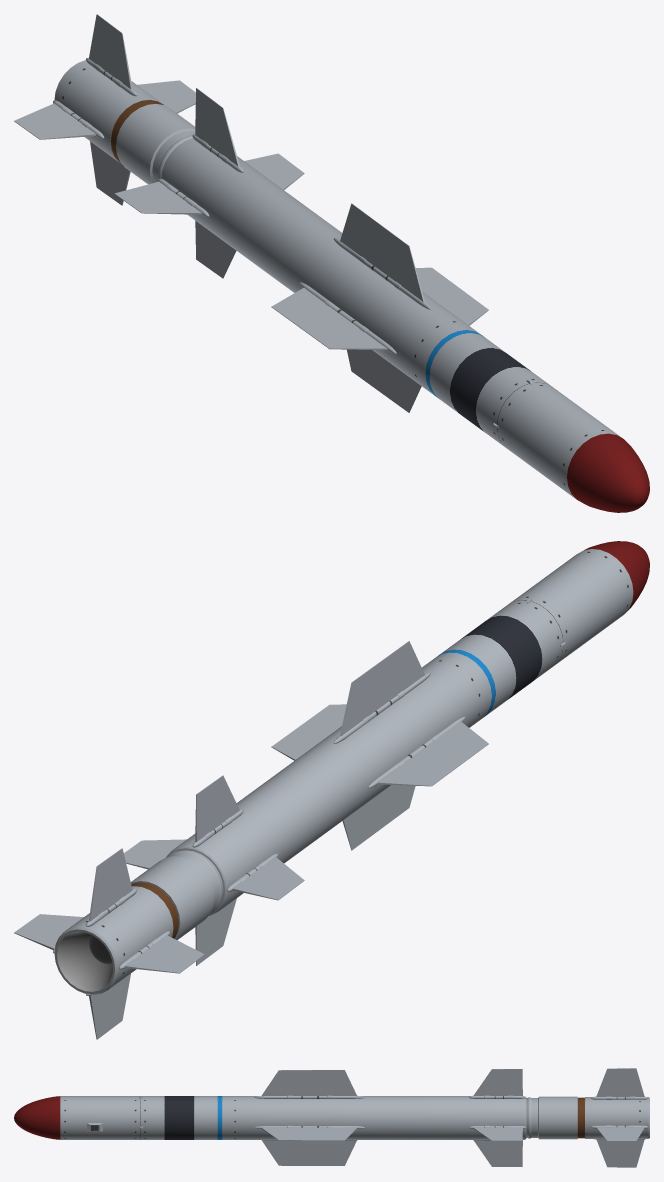
3 views of the same model, one above another, from view 1: azimuth 30°, elevation 25°; view 2: azimuth 150°, elevation 25°; view 3: azimuth 270°, elevation 25° (orthographic). The views are drawn at different scales.
Parts seen in each view (by area): view 1: RGM84F; view 2: RGM84F; view 3: RGM84F.
Part boxes in pixels (box(x1,y1,x2,y2)): RGM84F: box(14, 14, 649, 512); RGM84F: box(14, 541, 649, 1039); RGM84F: box(14, 1068, 649, 1167).
Size of the model in its own units: 0.7945 by 0.7945 by 4.61.
Materials: 1 (1 with a texture image).
